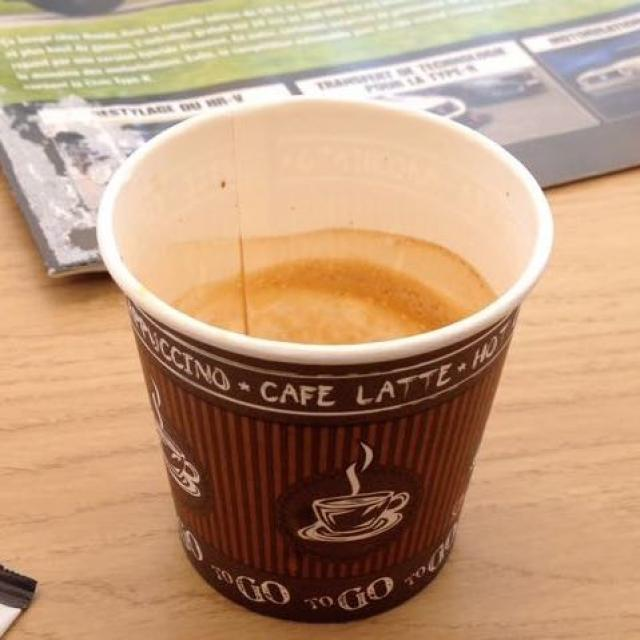coffee: (178, 259, 460, 334)
